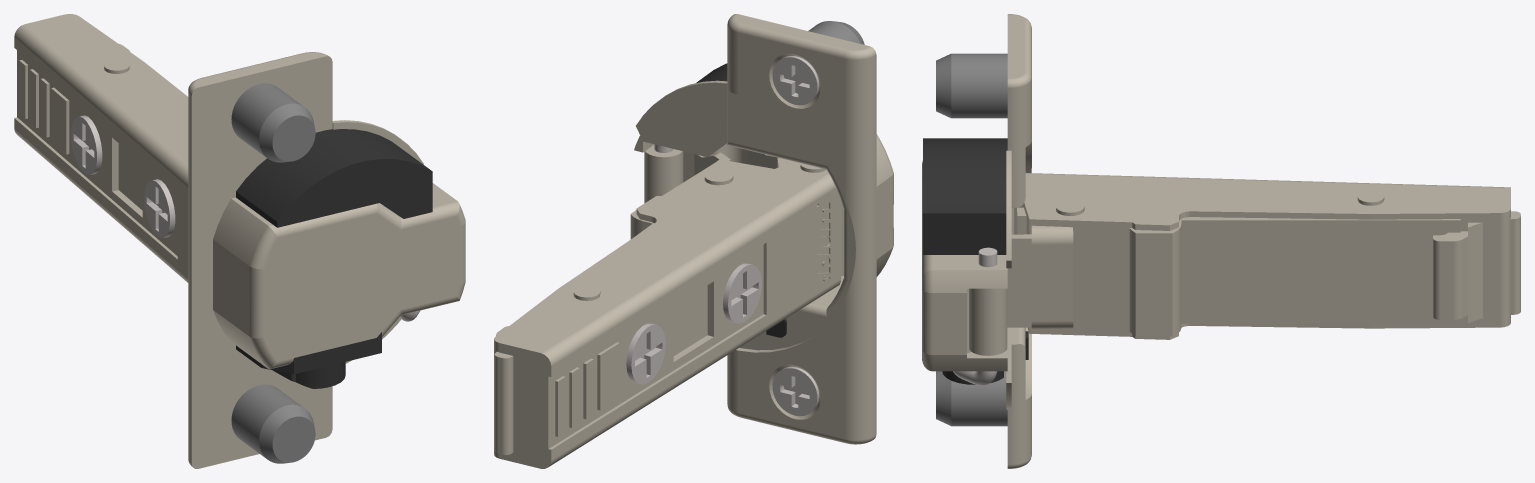
3 views of the same model, side by side, from view 1: azimuth 30°, elevation 25°; view 2: azimuth 150°, elevation 25°; view 3: azimuth 270°, elevation 25° (orthographic). The views are drawn at different scales.
Parts seen in each view (by area): view 1: bau0045622955-1, bau0045622803-1, bau0059100308-2, bau0059100308-1; view 2: bau0045622803-1, bau0045622955-1, bau0059100308-1, bau0016549209-1, bau0019426112-1, bau0059100308-2, bau0016549175-2; view 3: bau0019426112-1, bau0045622803-1, bau0045622955-1, bau0016549209-1, bau0059100308-1, bau0059100308-2.
Part boxes in pixels (x1=…): bau0045622955-1: x1=188, y1=52, x2=465, y2=468; bau0045622803-1: x1=14, y1=14, x2=188, y2=282; bau0059100308-2: x1=231, y1=384, x2=315, y2=463; bau0059100308-1: x1=231, y1=83, x2=315, y2=162; bau0045622803-1: x1=494, y1=159, x2=841, y2=468; bau0045622955-1: x1=634, y1=14, x2=893, y2=444; bau0059100308-1: x1=772, y1=21, x2=864, y2=105; bau0016549209-1: x1=644, y1=145, x2=730, y2=203; bau0019426112-1: x1=494, y1=210, x2=654, y2=454; bau0059100308-2: x1=772, y1=366, x2=819, y2=416; bau0016549175-2: x1=714, y1=143, x2=843, y2=275; bau0019426112-1: x1=1129, y1=211, x2=1520, y2=336; bau0045622803-1: x1=1014, y1=173, x2=1510, y2=339; bau0045622955-1: x1=922, y1=14, x2=1031, y2=468; bau0016549209-1: x1=969, y1=207, x2=1073, y2=355; bau0059100308-1: x1=936, y1=53, x2=1007, y2=118; bau0059100308-2: x1=936, y1=371, x2=1007, y2=426.
Bounding box in the file's own units: 36.9 × 57 × 79.35.
